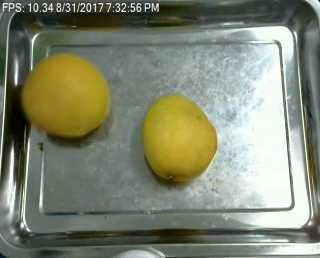Mango: (21, 50, 111, 137), (144, 94, 217, 180)
